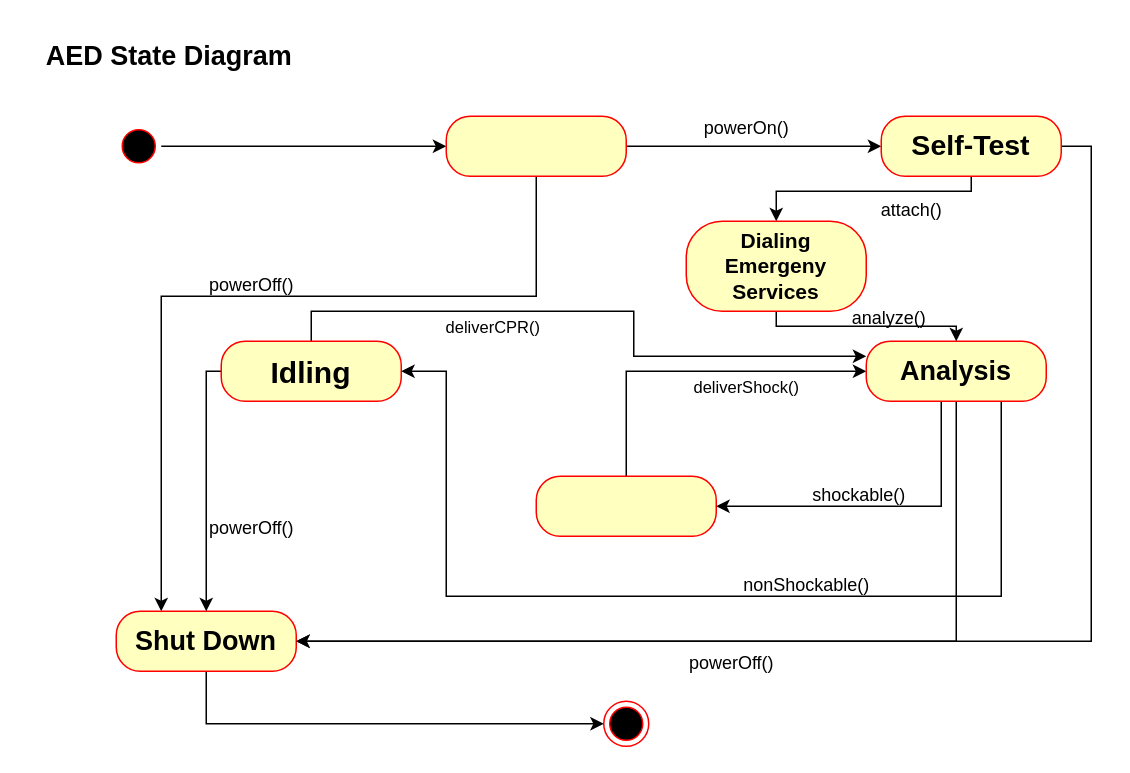
Image size: 1130x773. Some labels were removed from this diagram. Each missing label, with the centre of its shape:
Shock: point (625, 505)
StartUp: point (535, 145)
